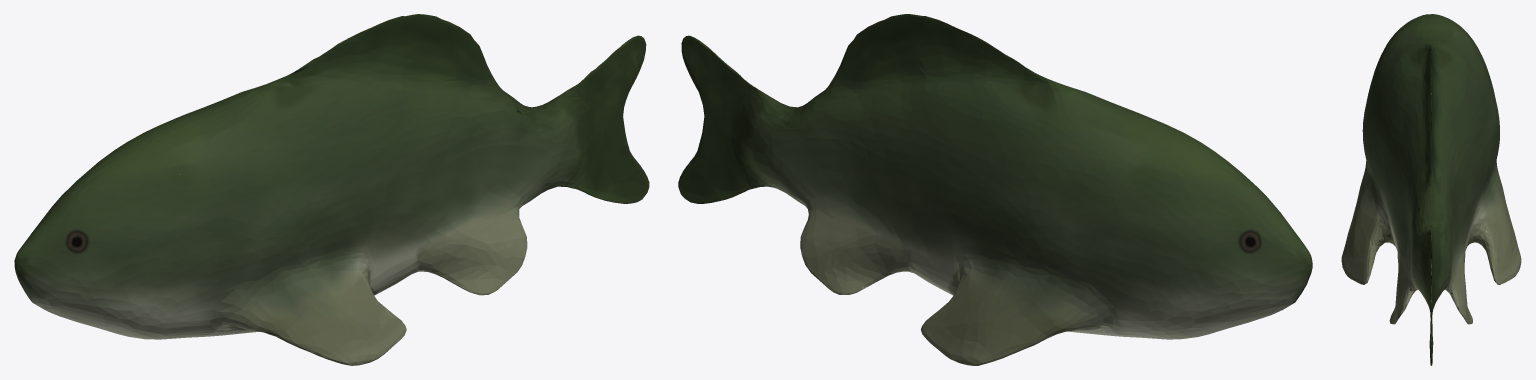
Rendered from fish1.fbx.
The picture shows the model from 3 angles, left to right: view 1: azimuth 30°, elevation 25°; view 2: azimuth 150°, elevation 25°; view 3: azimuth 270°, elevation 25°; orthographic projection. The views are drawn at different scales.
Parts seen in each view (by area): view 1: Icosphere; view 2: Icosphere; view 3: Icosphere.
Part boxes in pixels (bbox=[...]): Icosphere: bbox=[14, 14, 649, 365]; Icosphere: bbox=[678, 14, 1312, 365]; Icosphere: bbox=[1341, 14, 1521, 365].
Bounding box in the file's own units: 618 × 268 × 183.
1 material, 1 textured.
